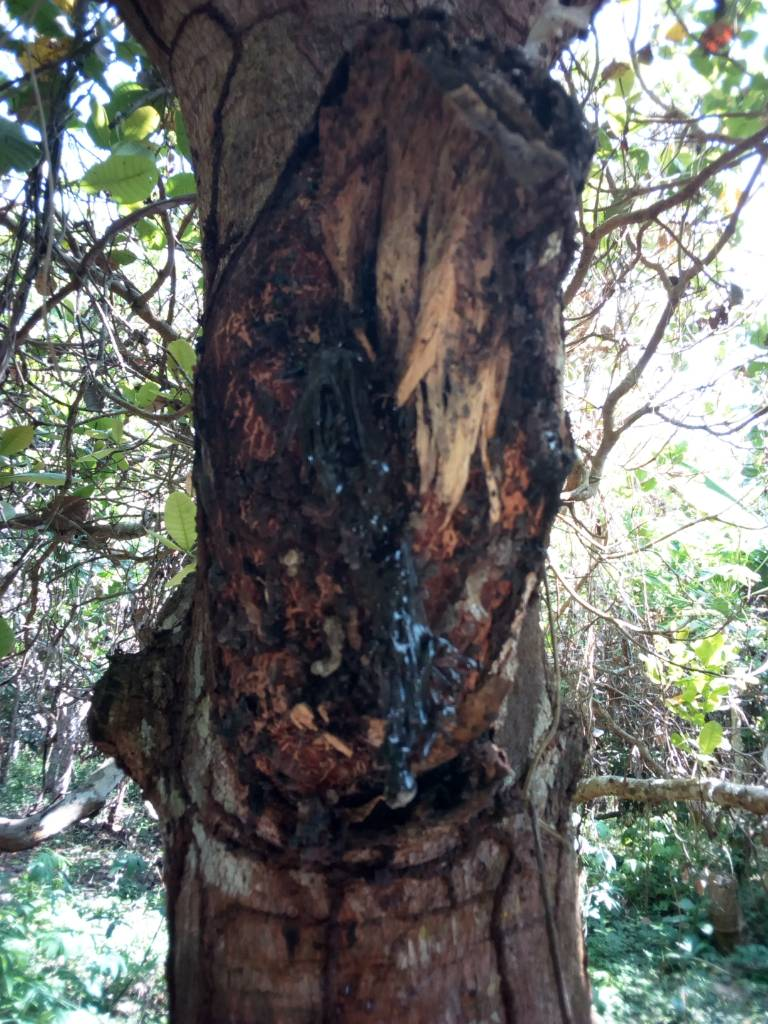Gommose: (210, 307, 469, 822)
